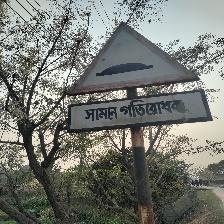Speed-breaker: (66, 21, 210, 133)
